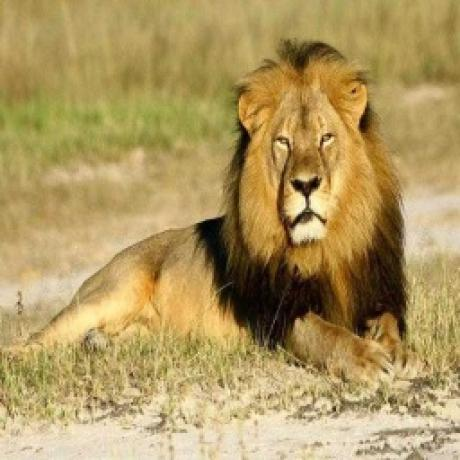Lion: (26, 36, 412, 375)
